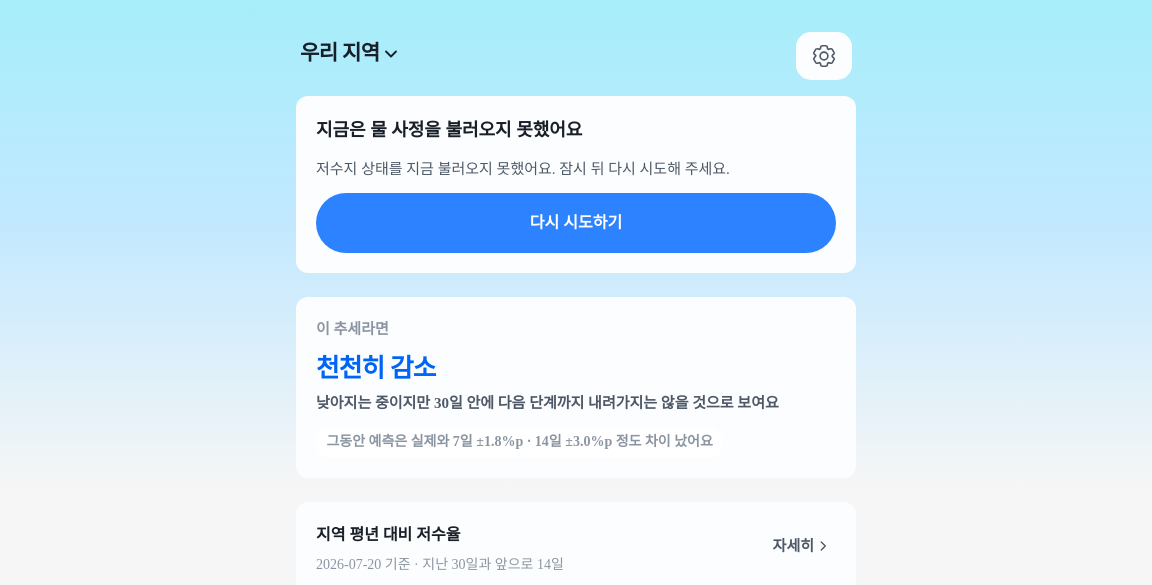
Test case: 메인 오류·재시도 › status 503이면 재시도 버튼을 보여주고, 재시도로 복구한다
Check: the text "저수지 상태를 지금 불러오지 못했어요. 잠시 뒤 다시 시도해 주세요." is shown, box [316,161,730,177]
Click the button "다시 시도하기" at (576, 223), box [316,193,836,253]
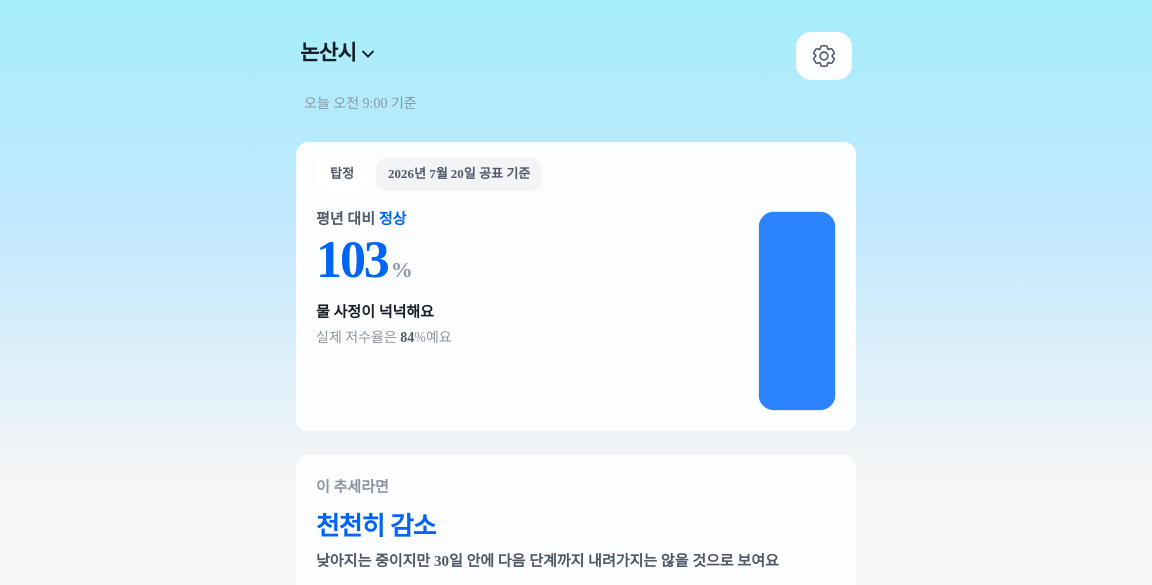
Check: the text "84" is shown, box [400,330,414,345]
